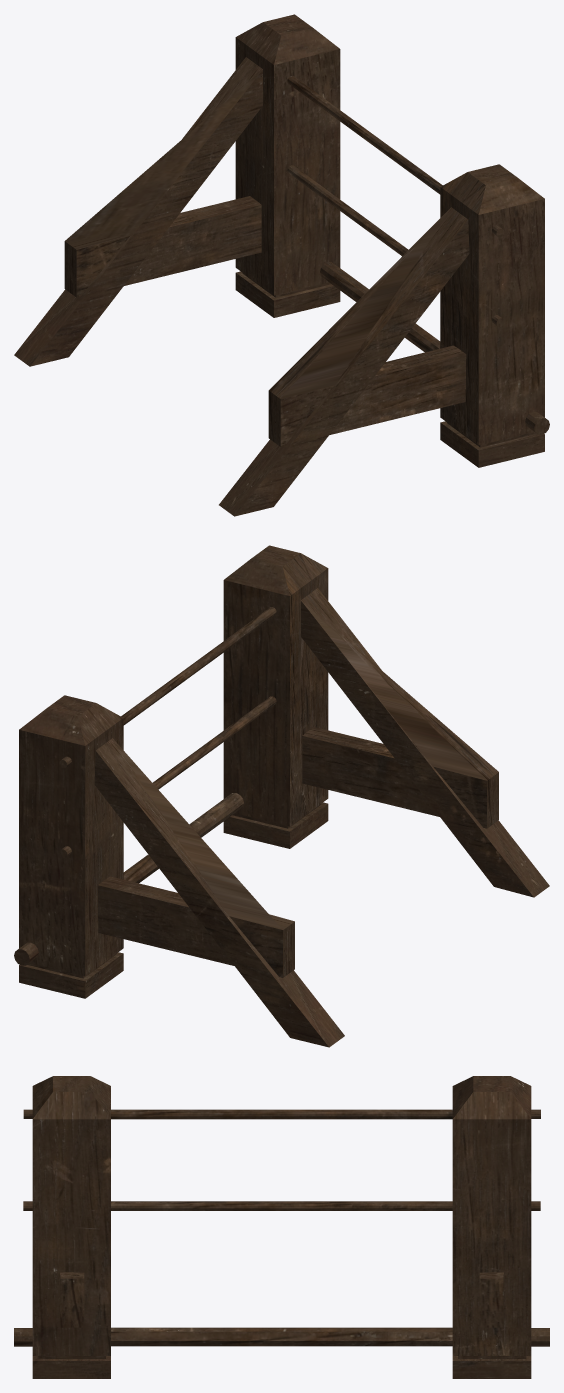
Rendered from WeaponRack1.1.fbx.
3 renders of one model, top to bottom at view 1: azimuth 30°, elevation 25°; view 2: azimuth 150°, elevation 25°; view 3: azimuth 270°, elevation 25°, orthographic. The views are drawn at different scales.
Visible parts, largest first — view 1: WeaponRack; view 2: WeaponRack; view 3: WeaponRack.
Boxes of the visible parts, box(x1,y1,x2,y2) form: WeaponRack: box(14, 14, 549, 516); WeaponRack: box(14, 545, 549, 1047); WeaponRack: box(14, 1076, 549, 1378).
Bounding box in the file's own units: 2.93 × 2.43 × 4.24.
Materials: 1 (1 with a texture image).
